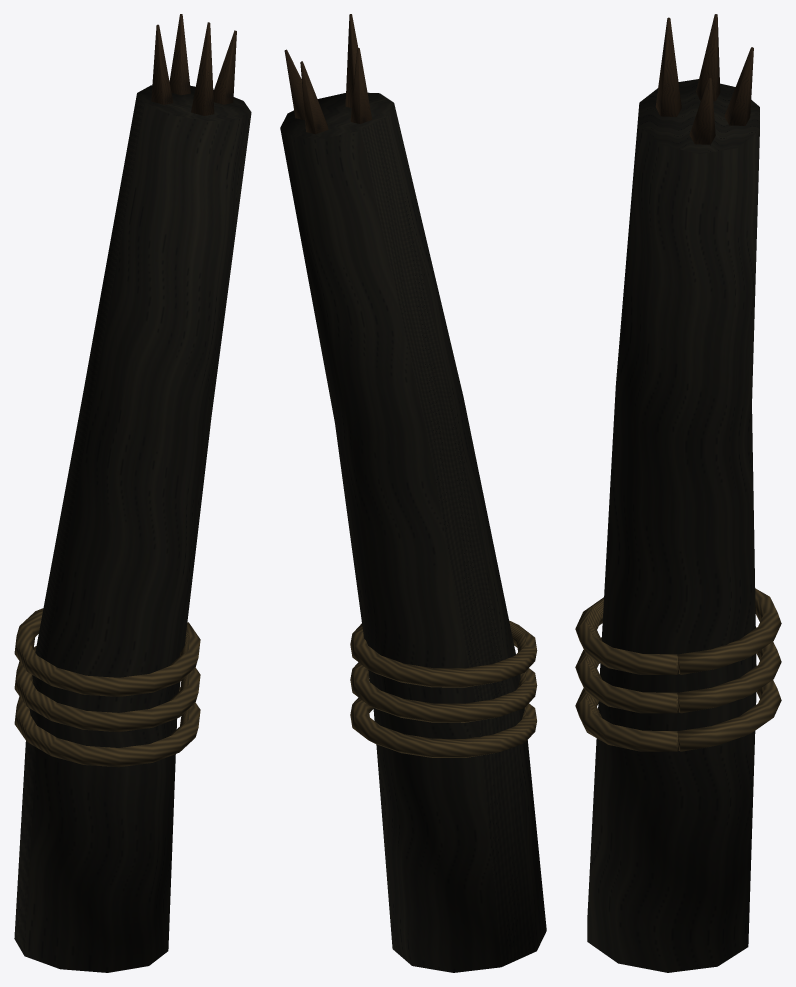
File: crooked_dock_post.glb
3 views of the same model, side by side, from view 1: azimuth 30°, elevation 25°; view 2: azimuth 150°, elevation 25°; view 3: azimuth 270°, elevation 25° (orthographic). The views are drawn at different scales.
Parts seen in each view (by area): view 1: crooked_dock_post; view 2: crooked_dock_post; view 3: crooked_dock_post.
Part boxes in pixels (x1,y1,x2,y2): crooked_dock_post: (14,14,251,972); crooked_dock_post: (280,14,546,972); crooked_dock_post: (575,14,781,972).
Bounding box in the file's own units: 0.5572 × 2.05 × 0.3899.
1 material, 1 textured.
